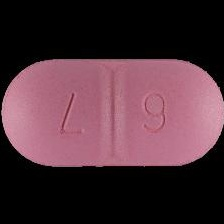61919-366: (0, 0, 224, 224)
